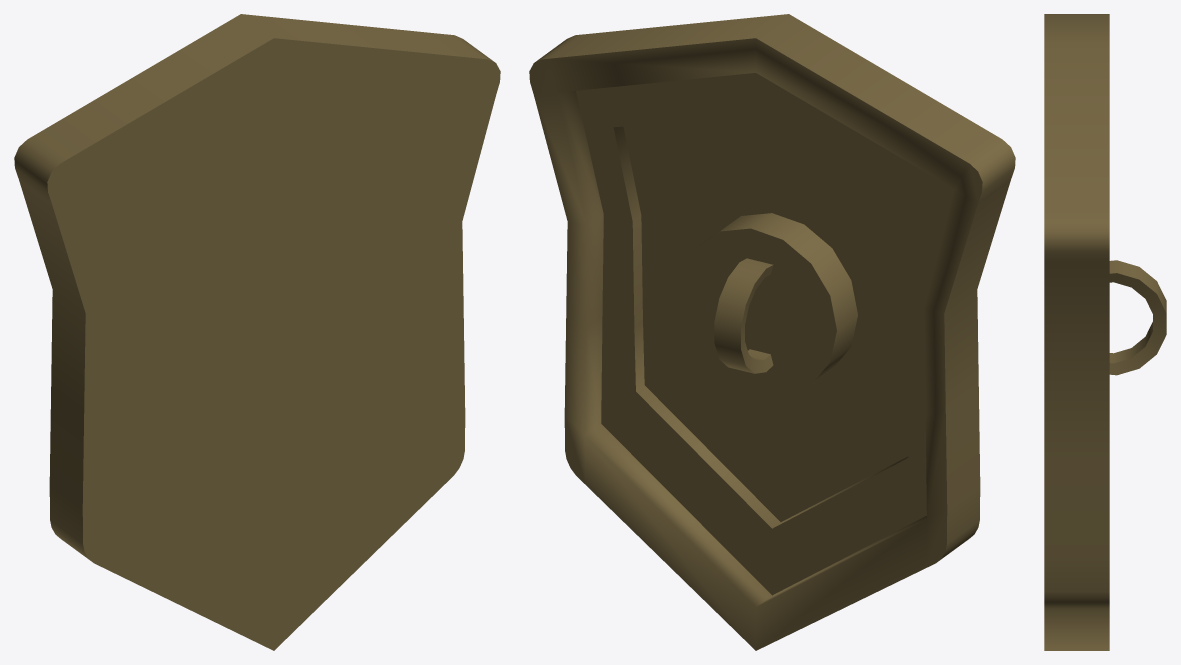
File: Shield.fbx
The picture shows the model from 3 angles, left to right: view 1: azimuth 30°, elevation 25°; view 2: azimuth 150°, elevation 25°; view 3: azimuth 270°, elevation 25°; orthographic projection.
Parts seen in each view (by area): view 1: Shield; view 2: Shield; view 3: Shield.
Boxes of the visible parts, left/top/right/bottom form: Shield: left=14, top=14, right=500, bottom=650; Shield: left=529, top=14, right=1015, bottom=650; Shield: left=1044, top=14, right=1166, bottom=650.
Bounding box in the file's own units: 151 × 35.63 × 195.
